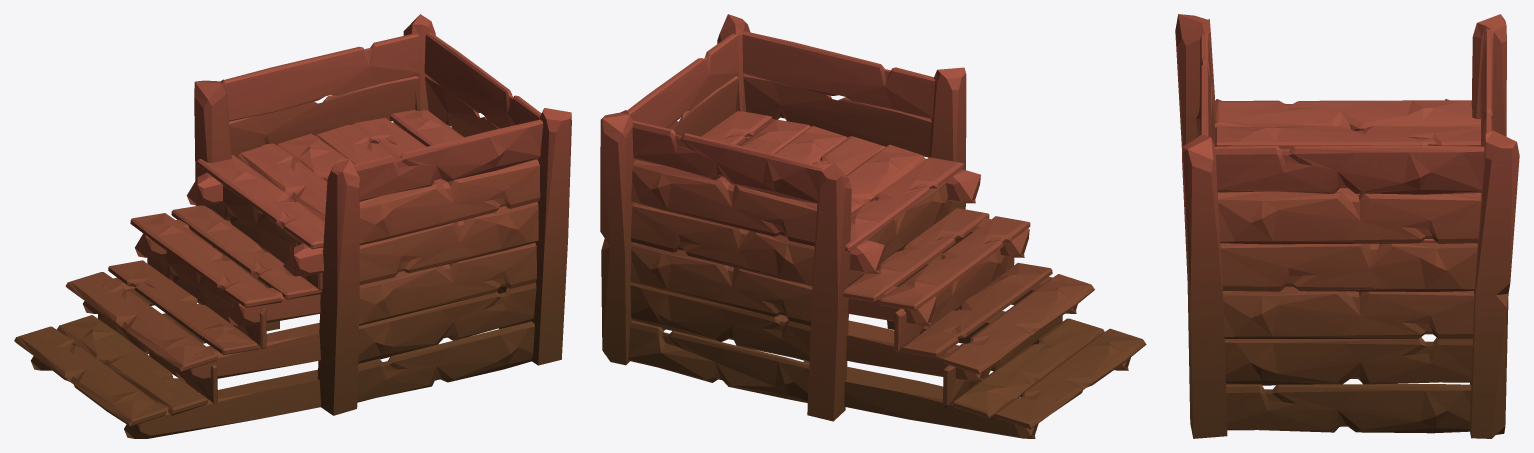
3 views of the same model, side by side, from view 1: azimuth 30°, elevation 25°; view 2: azimuth 150°, elevation 25°; view 3: azimuth 270°, elevation 25° (orthographic). The views are drawn at different scales.
Parts seen in each view (by area): view 1: WoodenWall_TowerShort; view 2: WoodenWall_TowerShort; view 3: WoodenWall_TowerShort.
Part boxes in pixels (x1,y1,x2,y2): WoodenWall_TowerShort: (14, 14, 571, 438); WoodenWall_TowerShort: (600, 14, 1146, 438); WoodenWall_TowerShort: (1175, 14, 1519, 438).
Size of the model in its own units: 5.21 by 2.92 by 3.01.
1 material, 1 textured.
